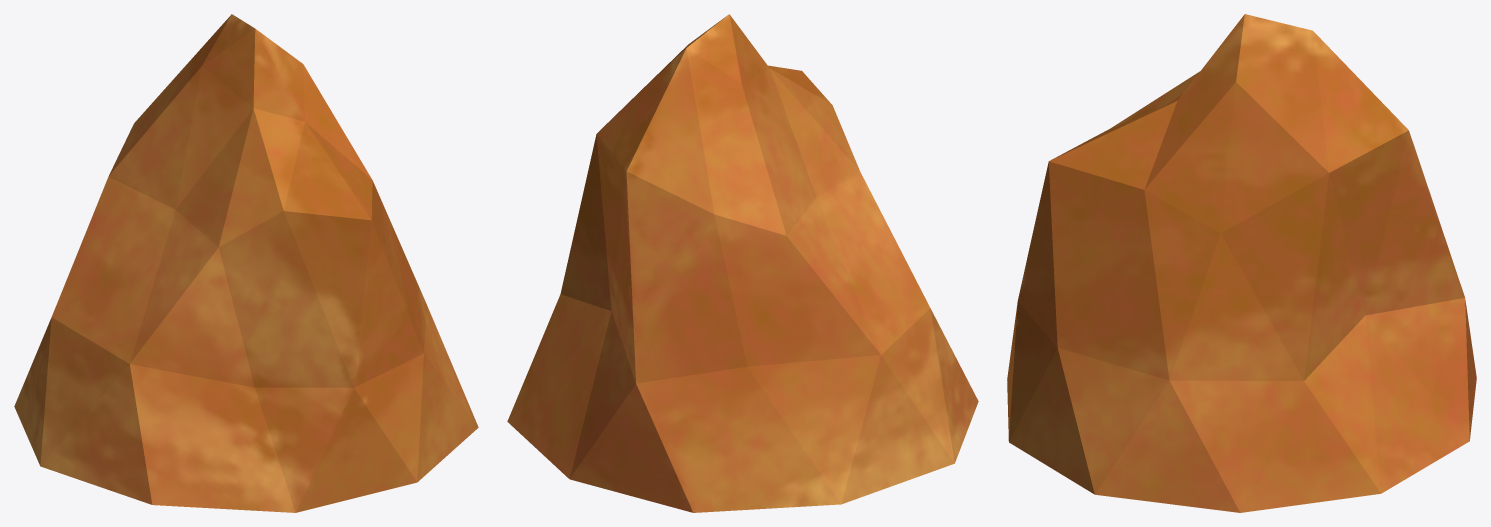
The model's file is Stone1.fbx.
The picture shows the model from 3 angles, left to right: view 1: azimuth 30°, elevation 25°; view 2: azimuth 150°, elevation 25°; view 3: azimuth 270°, elevation 25°; orthographic projection. The views are drawn at different scales.
Parts seen in each view (by area): view 1: Stone1; view 2: Stone1; view 3: Stone1.
Boxes of the visible parts, box(x1,y1,x2,y2) form: Stone1: box(14, 14, 478, 512); Stone1: box(507, 14, 978, 512); Stone1: box(1007, 14, 1476, 512).
Size of the model in its own units: 0.6363 by 0.5775 by 0.6101.
